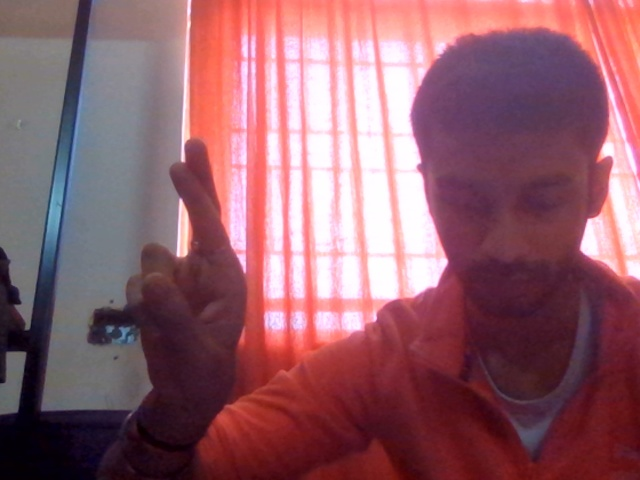R: (101, 121, 292, 451)
